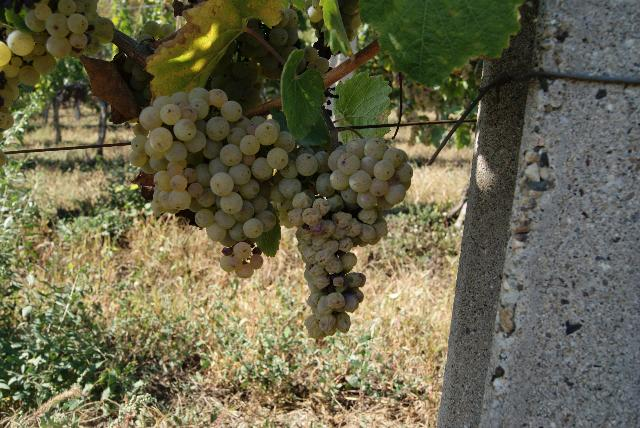grapes: (130, 88, 320, 279), (288, 138, 412, 340)
